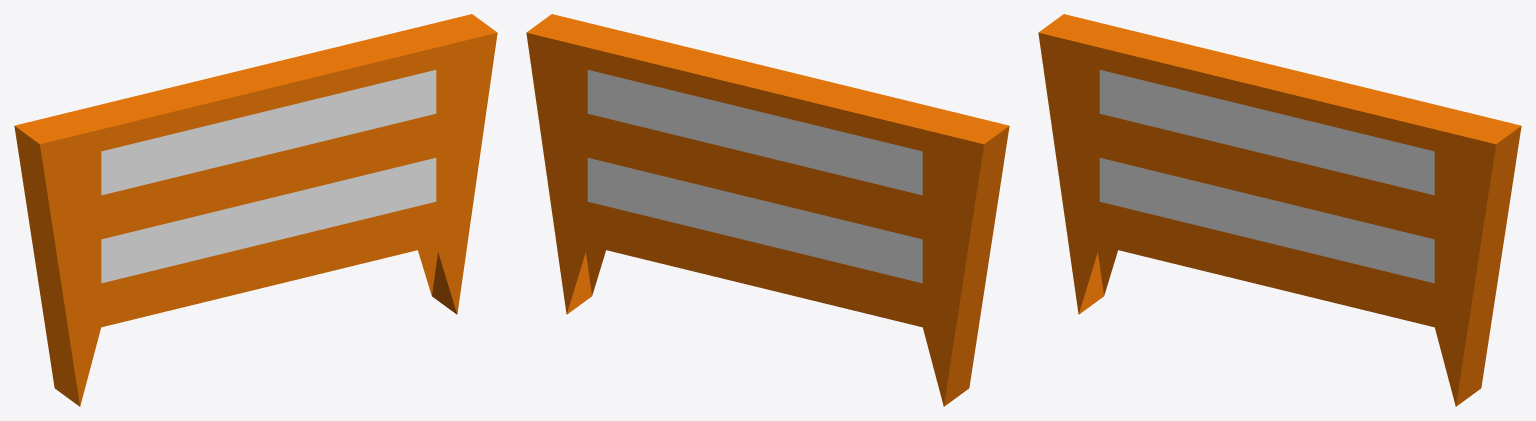
The model's file is CageA_SmasherA.fbx.
3 renders of one model, left to right at view 1: azimuth 30°, elevation 25°; view 2: azimuth 150°, elevation 25°; view 3: azimuth 330°, elevation 25°, orthographic.
Parts seen in each view (by area): view 1: SMASHERA, CageA_SmasherA; view 2: SMASHERA, CageA_SmasherA; view 3: SMASHERA, CageA_SmasherA.
Part boxes in pixels (x1,y1,x2,y2): SMASHERA: (101,70,436,327); CageA_SmasherA: (14,14,497,406); SMASHERA: (587,70,922,327); CageA_SmasherA: (526,14,1009,406); SMASHERA: (1099,70,1434,327); CageA_SmasherA: (1038,14,1521,406).
Size of the model in its own units: 861 by 490 by 83.
Materials: 1 (1 with a texture image).
